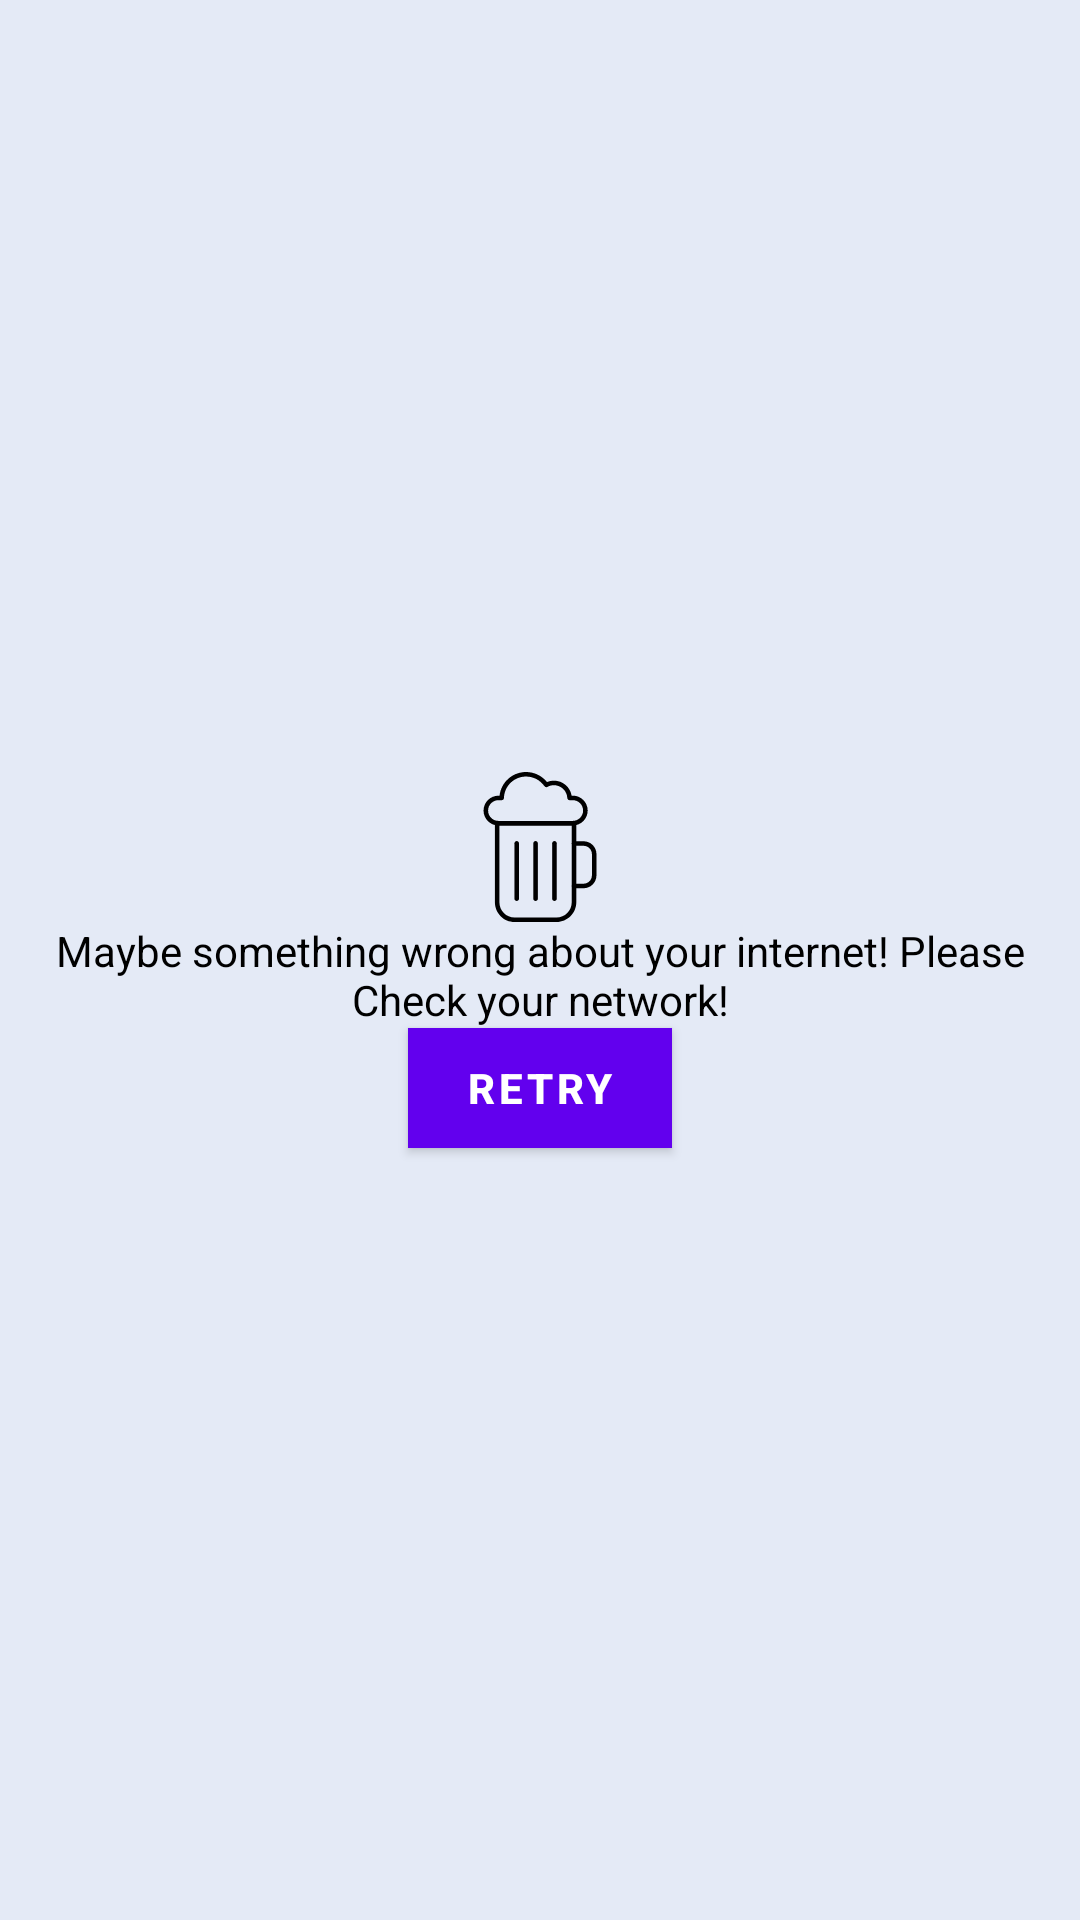

Icon click points for this 1080px×1920px phone screenshot, format [x,y]:
beer: [540,847]
